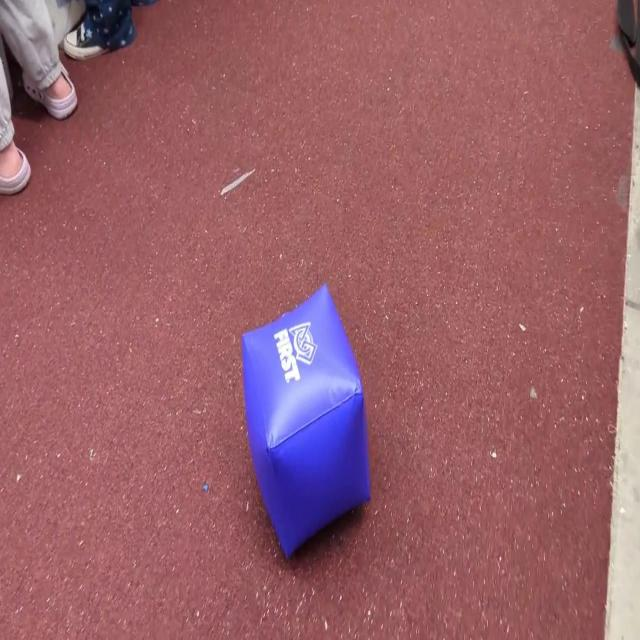frc_cube: (243, 286, 371, 564)
